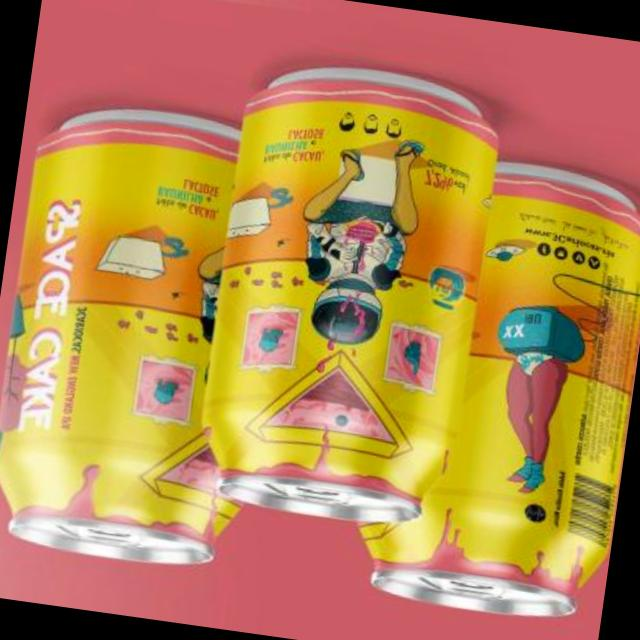metal: (201, 70, 494, 524), (359, 165, 640, 619), (0, 112, 236, 567)
